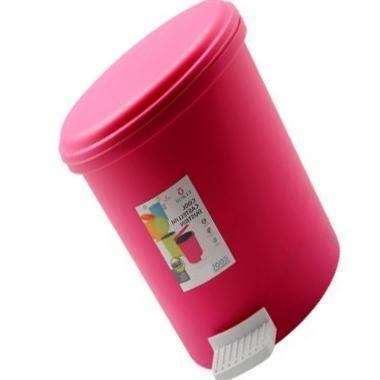Bote de Basura: (54, 0, 342, 377)
